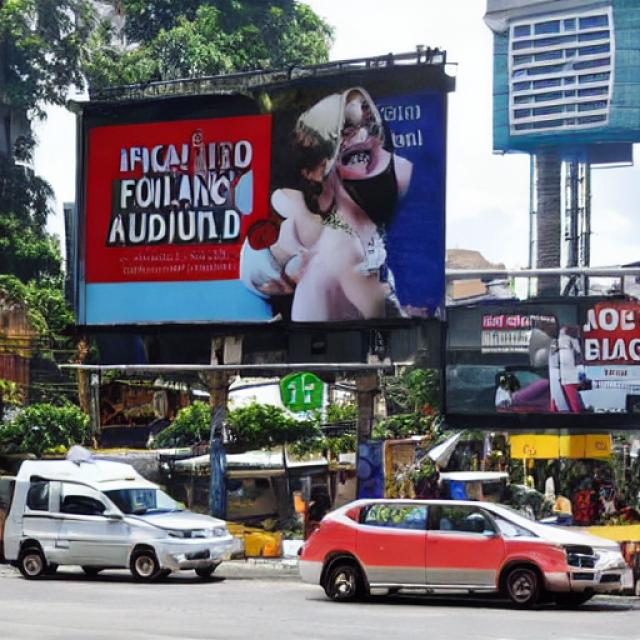Billboard: (72, 58, 450, 338)
